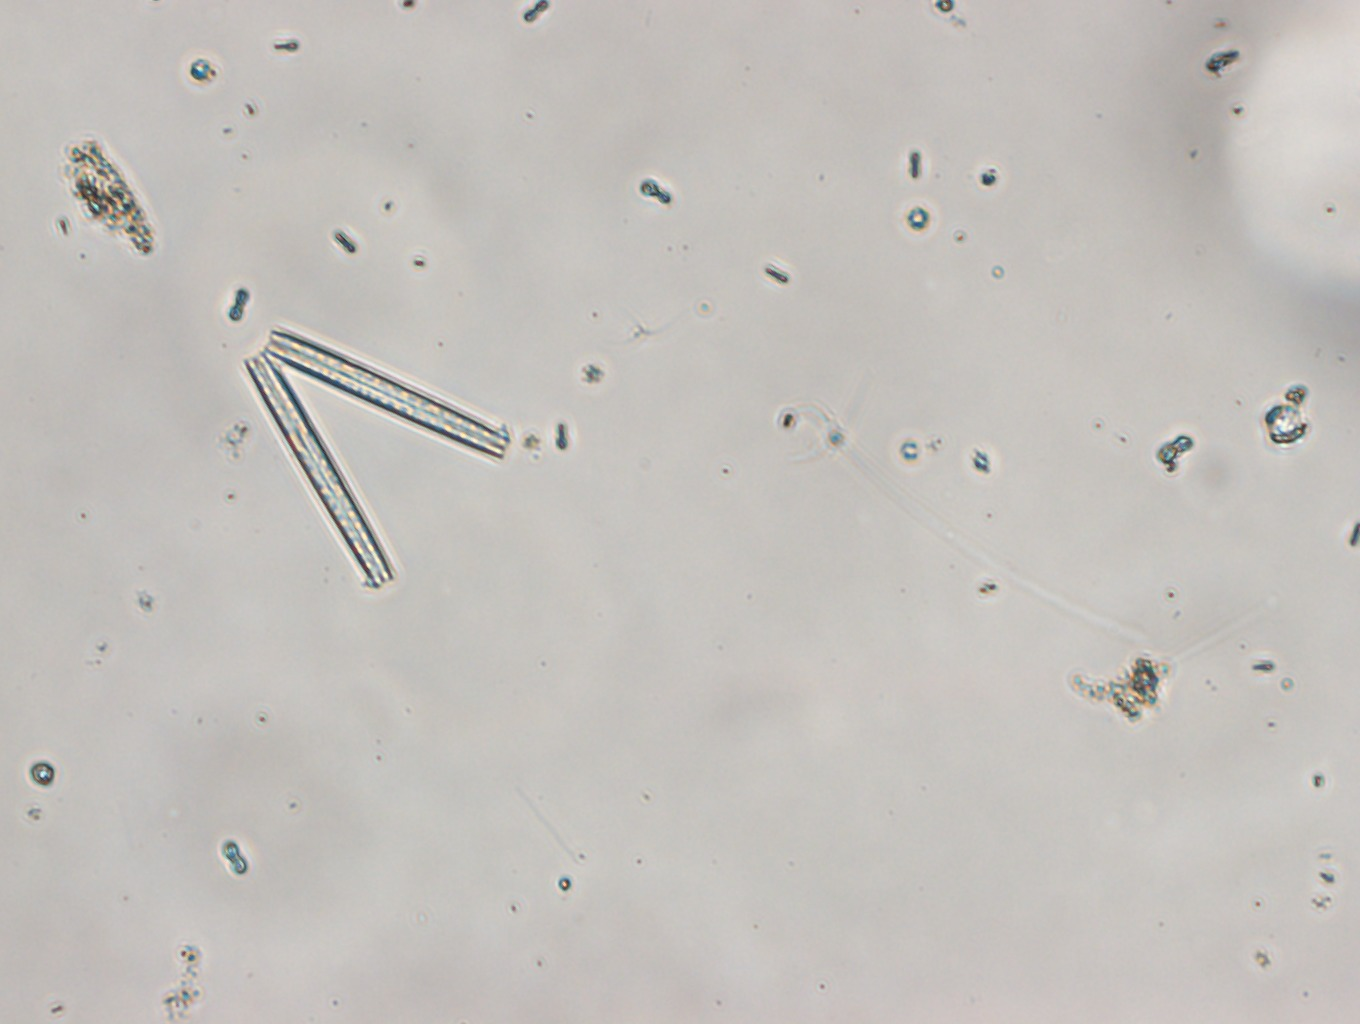thalassionema nitzschioides: (232, 325, 516, 597)
